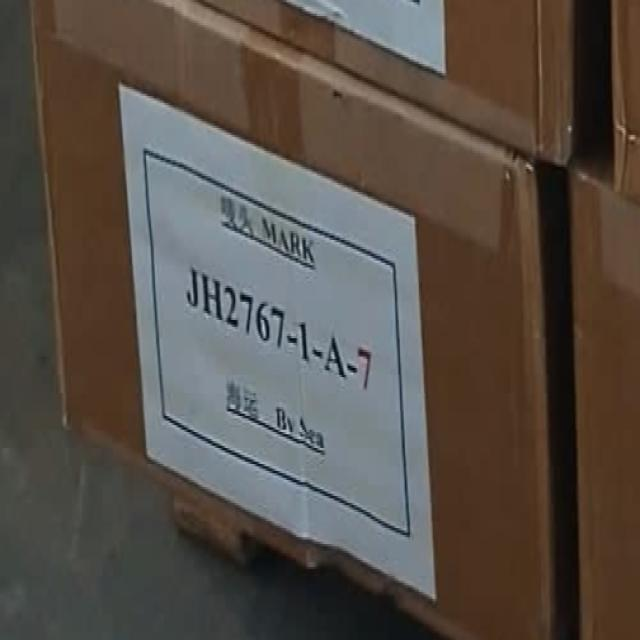carton_box: (15, 0, 619, 640)
export_mark_label: (110, 57, 502, 597)
package_damage: (328, 72, 354, 117), (509, 149, 538, 186)
